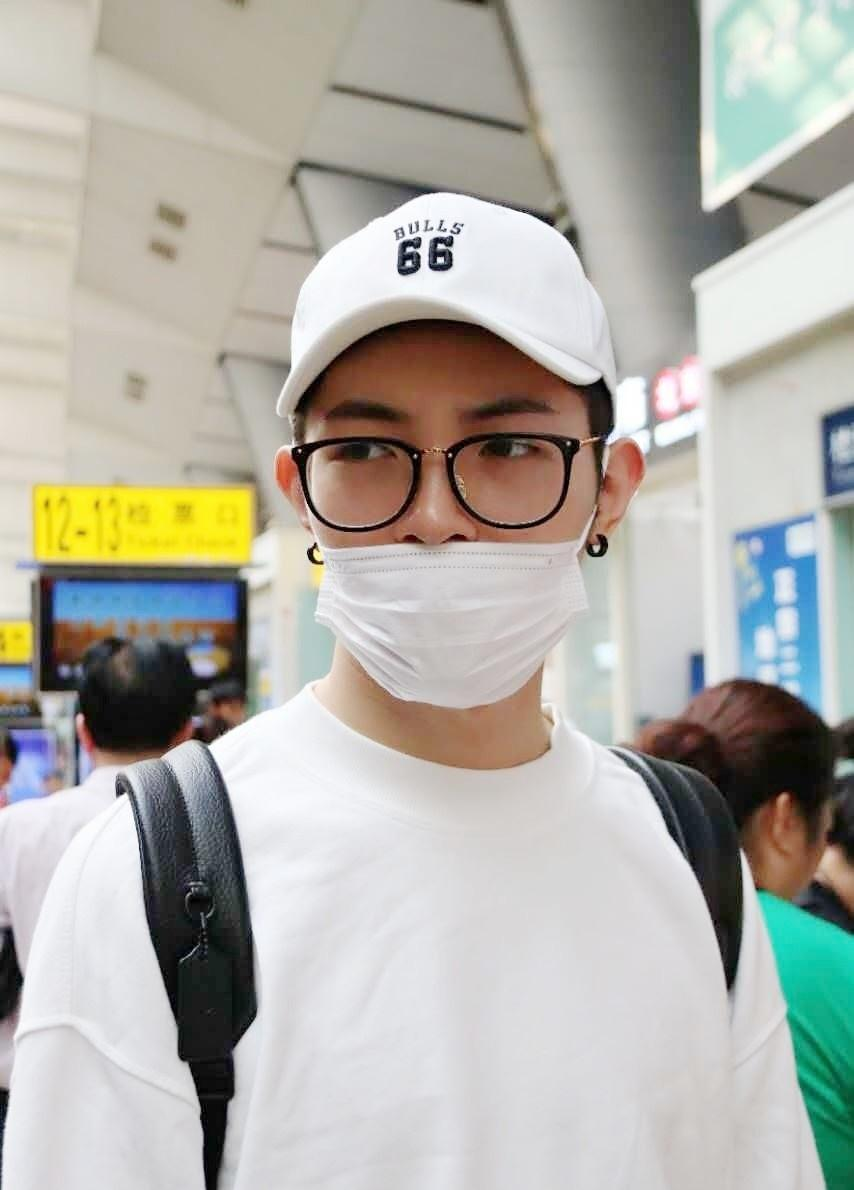WRONG: (299, 391, 609, 701)
